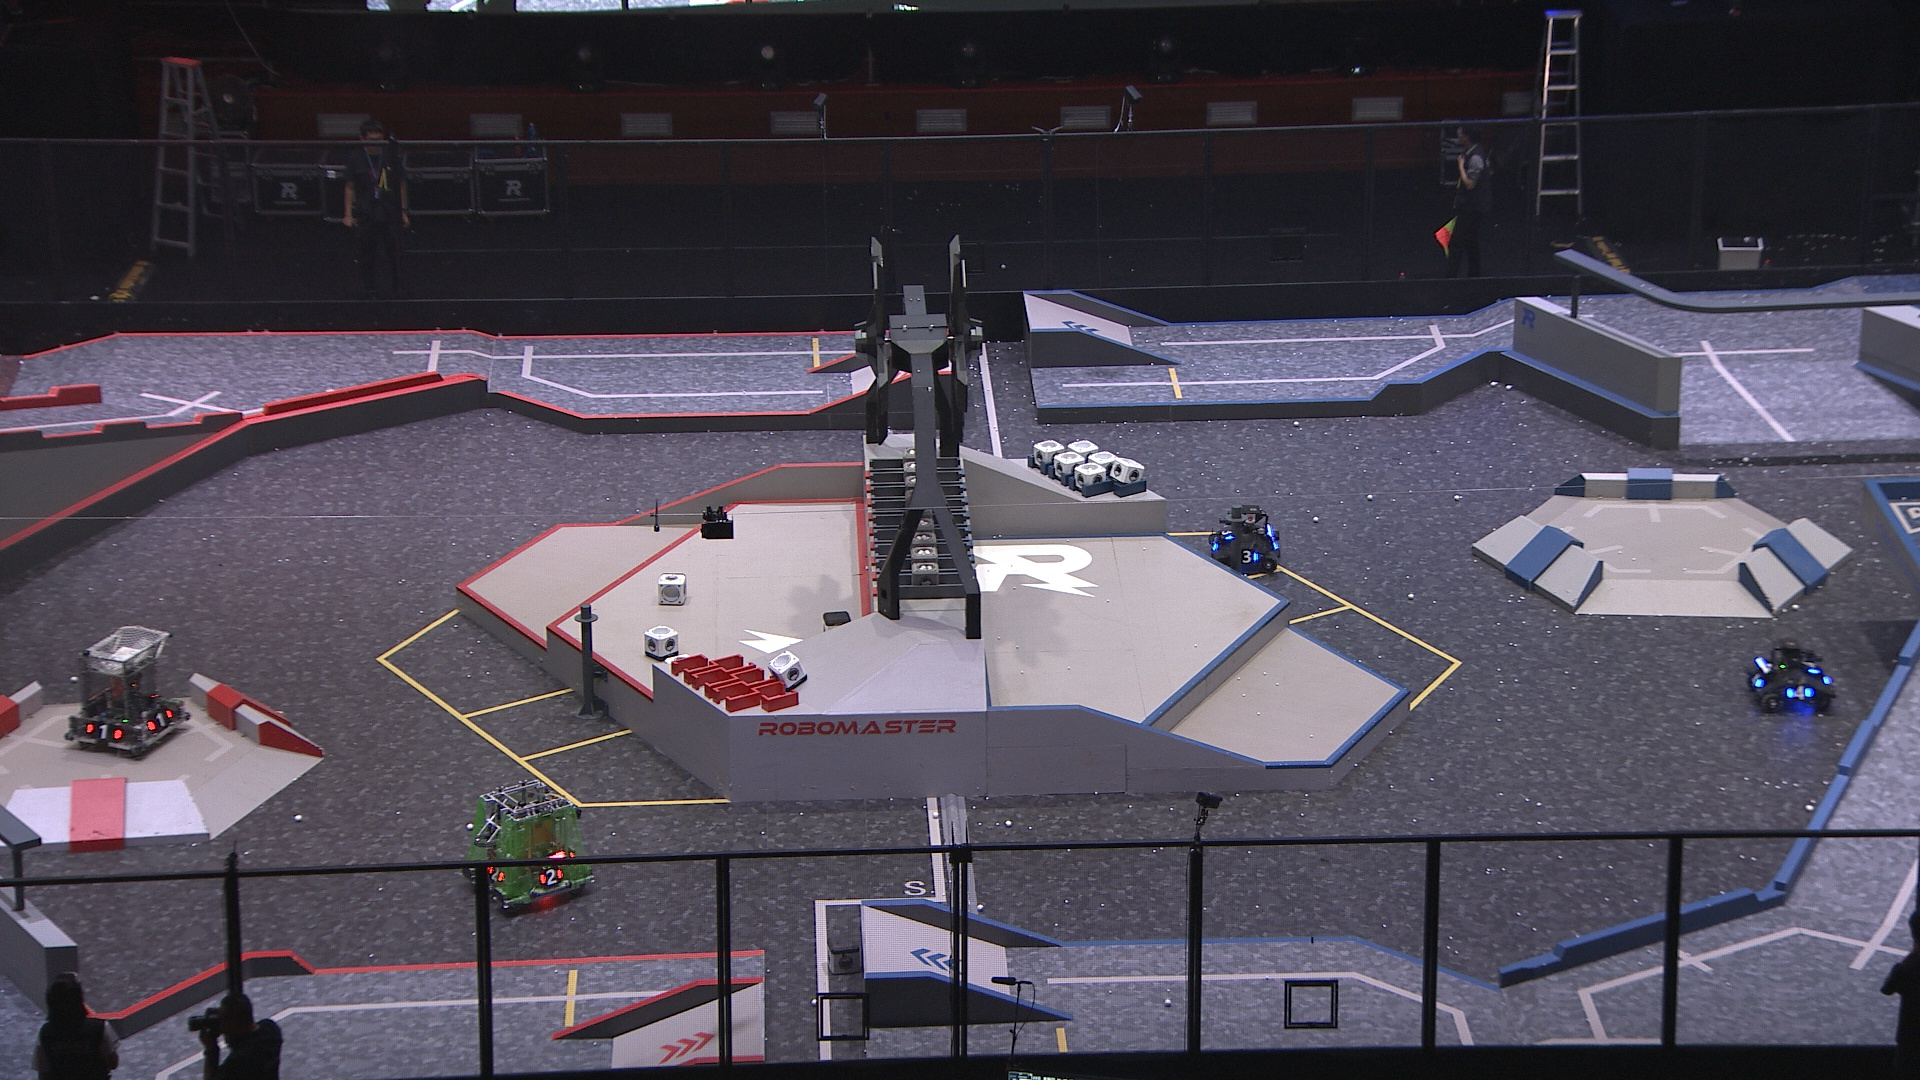armor: (82, 719, 124, 741), (146, 705, 173, 731), (1784, 684, 1813, 703), (537, 868, 566, 885), (1797, 655, 1822, 675), (1745, 670, 1764, 688), (1218, 526, 1237, 543), (485, 864, 505, 880), (1240, 550, 1259, 564)
car: (458, 781, 599, 916), (62, 622, 195, 757), (1742, 640, 1840, 712), (1204, 502, 1280, 576)
